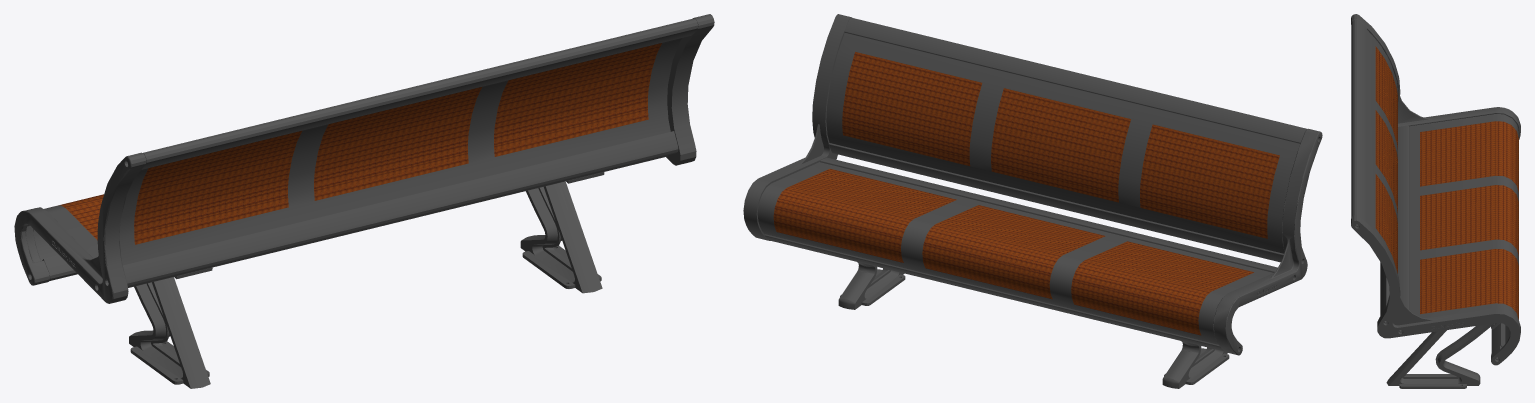
The picture shows the model from 3 angles, left to right: view 1: azimuth 30°, elevation 25°; view 2: azimuth 150°, elevation 25°; view 3: azimuth 270°, elevation 25°; orthographic projection. The views are drawn at different scales.
Visible parts, largest first — view 1: mesh108_mesh108-geometry, mesh72_mesh72-geometry, mesh7_mesh7-geometry, mesh8_mesh8-geometry, mesh9_mesh9-geometry, mesh112_mesh112-geometry, mesh13_mesh13-geometry, mesh77_mesh77-geometry, mesh110_mesh110-geometry, mesh106_mesh106-geometry, mesh1_mesh1-geometry; view 2: mesh72_mesh72-geometry, mesh108_mesh108-geometry, mesh8_mesh8-geometry, mesh7_mesh7-geometry, mesh9_mesh9-geometry, mesh106_mesh106-geometry, mesh3_mesh3-geometry, mesh2_mesh2-geometry, mesh1_mesh1-geometry, mesh110_mesh110-geometry, mesh13_mesh13-geometry, mesh77_mesh77-geometry (+1 smaller); view 3: mesh3_mesh3-geometry, mesh1_mesh1-geometry, mesh2_mesh2-geometry, mesh106_mesh106-geometry, mesh77_mesh77-geometry, mesh108_mesh108-geometry, mesh112_mesh112-geometry, mesh72_mesh72-geometry, mesh110_mesh110-geometry, mesh13_mesh13-geometry, mesh8_mesh8-geometry, mesh7_mesh7-geometry (+1 smaller).
Boxes of the visible parts, x1,y1,x2,y2 form: mesh108_mesh108-geometry: (123,18,698,286); mesh72_mesh72-geometry: (119,38,681,265); mesh7_mesh7-geometry: (314,87,481,200); mesh8_mesh8-geometry: (134,131,301,244); mesh9_mesh9-geometry: (494,43,661,156); mesh112_mesh112-geometry: (129,172,604,388); mesh13_mesh13-geometry: (14,152,146,303); mesh77_mesh77-geometry: (666,14,714,165); mesh110_mesh110-geometry: (42,155,668,287); mesh106_mesh106-geometry: (33,205,98,260); mesh1_mesh1-geometry: (58,194,103,240); mesh72_mesh72-geometry: (826,33,1299,253); mesh108_mesh108-geometry: (829,17,1306,262); mesh8_mesh8-geometry: (1140,124,1279,238); mesh7_mesh7-geometry: (991,88,1130,202); mesh9_mesh9-geometry: (842,52,982,166); mesh106_mesh106-geometry: (757,162,1272,344); mesh3_mesh3-geometry: (922,205,1105,299); mesh2_mesh2-geometry: (773,168,956,262); mesh1_mesh1-geometry: (1071,241,1253,335); mesh110_mesh110-geometry: (764,157,1277,351); mesh13_mesh13-geometry: (1213,128,1322,355); mesh77_mesh77-geometry: (743,14,851,240); mesh3_mesh3-geometry: (1420,185,1518,255); mesh1_mesh1-geometry: (1420,121,1518,192); mesh2_mesh2-geometry: (1420,249,1518,319); mesh106_mesh106-geometry: (1409,114,1518,343); mesh77_mesh77-geometry: (1351,215,1520,365); mesh108_mesh108-geometry: (1351,19,1389,315); mesh112_mesh112-geometry: (1386,323,1499,388); mesh72_mesh72-geometry: (1367,30,1397,259); mesh110_mesh110-geometry: (1398,125,1505,352); mesh13_mesh13-geometry: (1351,14,1520,139); mesh8_mesh8-geometry: (1375,46,1397,149); mesh7_mesh7-geometry: (1375,110,1397,212).
Bounding box in the file's own units: 0.872 × 0.3848 × 0.3026.
